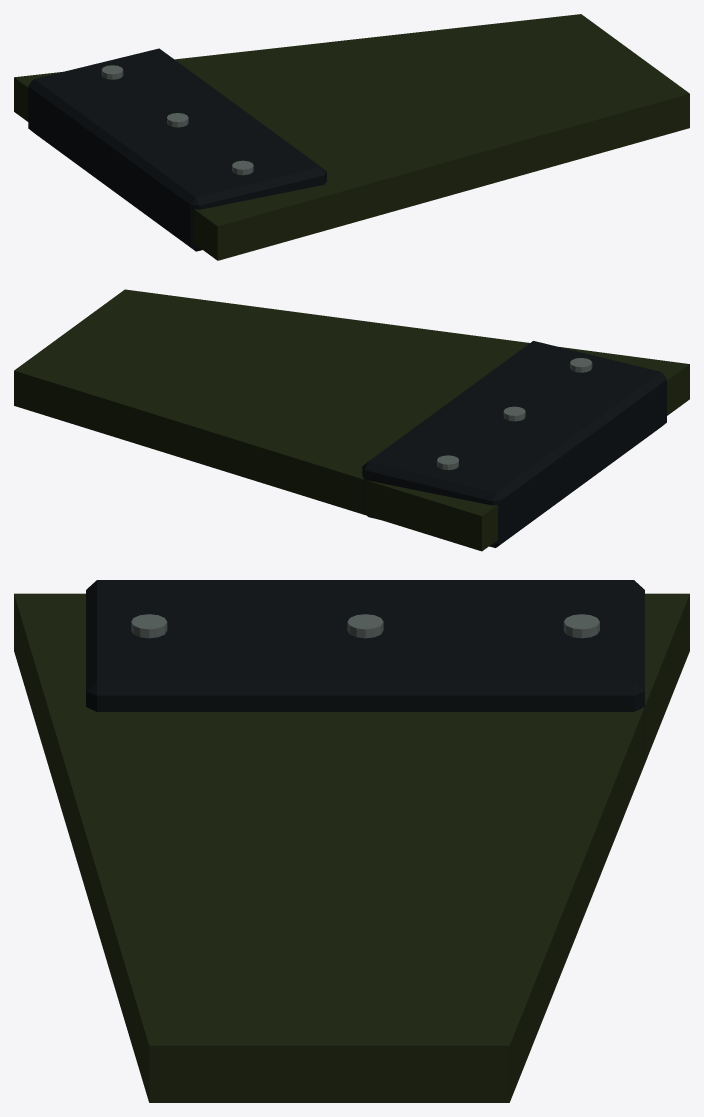
File: StubWing__WingRight.obj
3 views of the same model, one above another, from view 1: azimuth 30°, elevation 25°; view 2: azimuth 150°, elevation 25°; view 3: azimuth 270°, elevation 25° (orthographic). The views are drawn at different scales.
Visible parts, largest first — view 1: Right_stub_wing, Wing_root_doubler.001; view 2: Right_stub_wing, Wing_root_doubler.001; view 3: Right_stub_wing, Wing_root_doubler.001.
Boxes of the visible parts, x1,y1,x2,y2 form: Right_stub_wing: (14,14,689,260); Wing_root_doubler.001: (28,48,326,251); Right_stub_wing: (14,289,689,551); Wing_root_doubler.001: (362,341,666,547); Right_stub_wing: (14,593,689,1102); Wing_root_doubler.001: (86,580,644,761).
Size of the model in its own units: 1.09 by 0.151 by 0.75.
